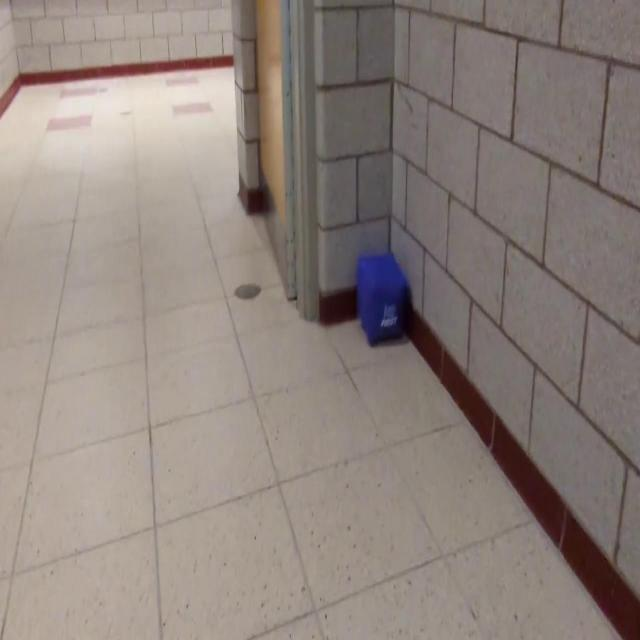frc_cube: (357, 252, 409, 350)
